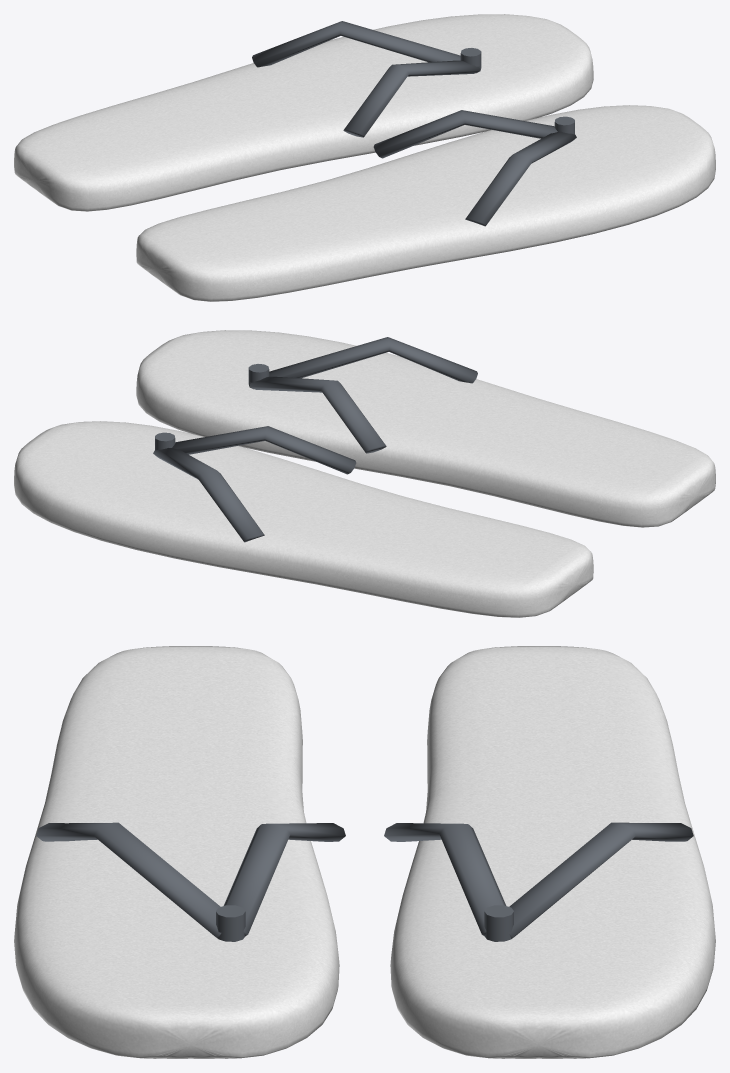
File: flip_flops.glb
3 renders of one model, top to bottom at view 1: azimuth 30°, elevation 25°; view 2: azimuth 150°, elevation 25°; view 3: azimuth 270°, elevation 25°, orthographic. The views are drawn at different scales.
Parts seen in each view (by area): view 1: ff0_sole, ff1_sole, ff1_strap1, ff0_strap1, ff1_strap-1, ff0_strap-1; view 2: ff1_sole, ff0_sole, ff0_strap-1, ff1_strap-1, ff0_strap1, ff1_strap1; view 3: ff0_sole, ff1_sole, ff1_strap1, ff0_strap-1, ff0_strap1, ff1_strap-1, ff0_post, ff1_post.
Part boxes in pixels (x1,y1,x2,y2): ff0_sole: (136,105,715,301); ff1_sole: (14,14,593,211); ff1_strap1: (252,21,460,67); ff0_strap1: (373,110,557,158); ff1_strap-1: (343,60,480,137); ff0_strap-1: (465,131,576,226); ff1_sole: (14,421,593,617); ff0_sole: (136,330,715,527); ff0_strap-1: (269,337,477,383); ff1_strap-1: (172,426,356,474); ff0_strap1: (249,376,386,453); ff1_strap1: (153,448,264,542); ff0_sole: (14,646,339,1058); ff1_sole: (390,646,715,1058); ff1_strap1: (508,822,693,938); ff0_strap-1: (36,822,221,938); ff0_strap1: (223,823,345,936); ff1_strap-1: (384,823,506,936); ff0_post: (216,905,245,941); ff1_post: (484,905,513,941).
Bounding box in the file's own units: 27 × 3.18 × 21.19.
2 materials, 1 textured.
